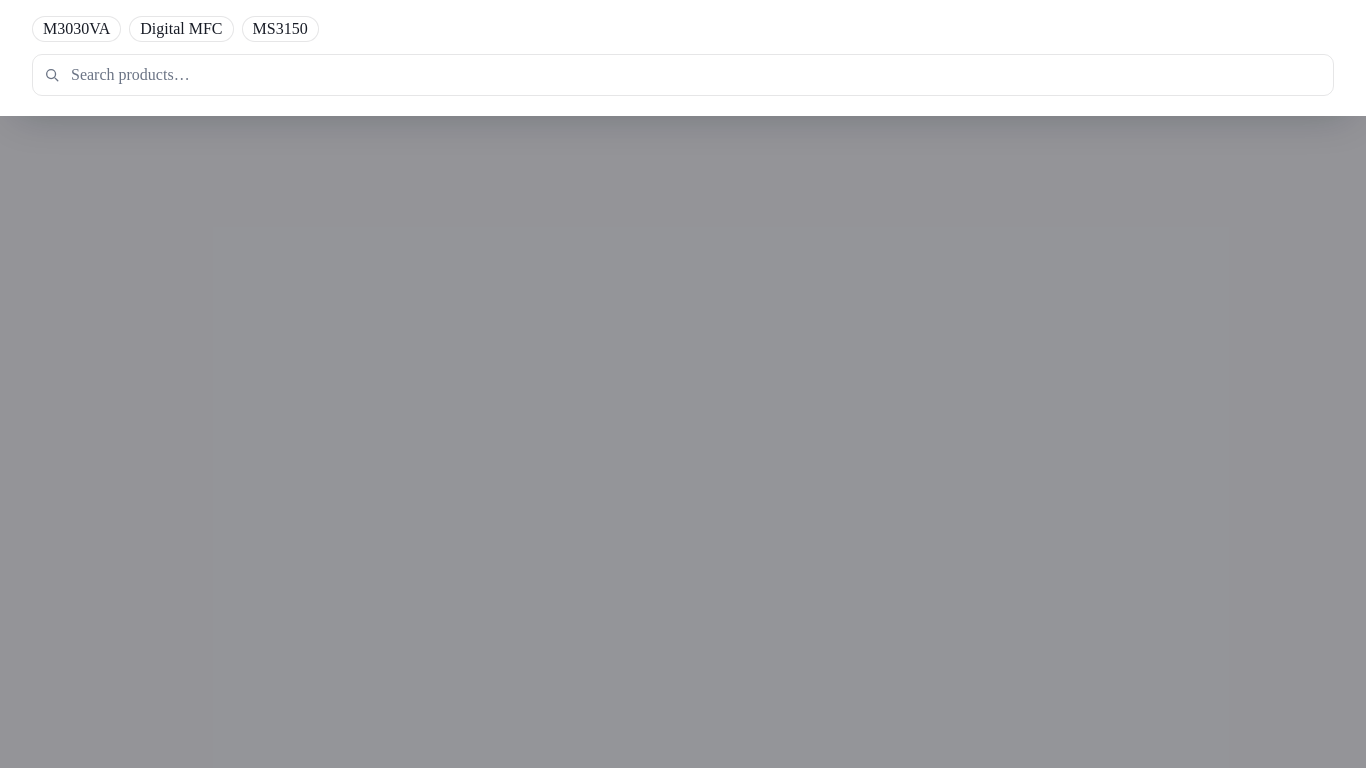
Test: SearchPanel › renders the empty state with the interpolated query when there are no matches
Type "nothingmatches" into the search field with placeholder "Search products…" at [683, 75], box [32,54,1334,96]
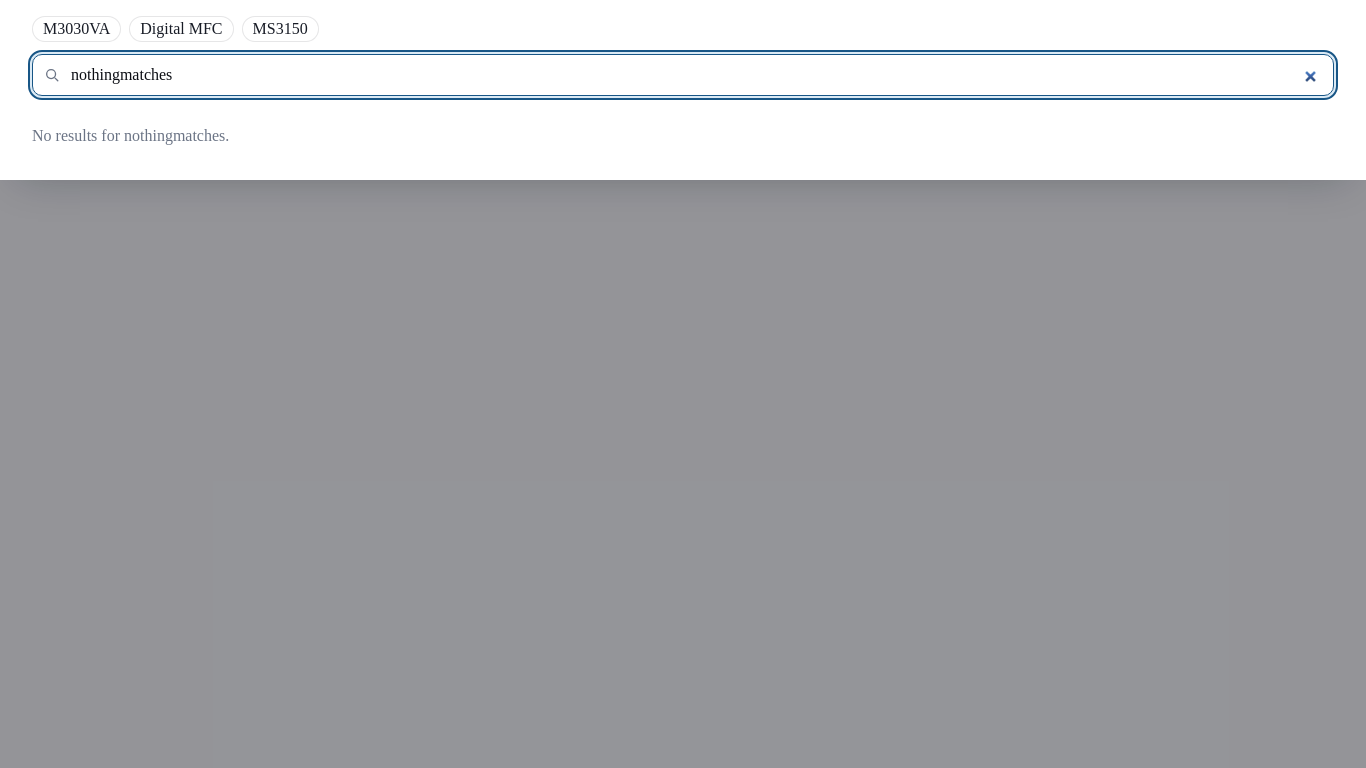
Now the text "No results for nothingmatches." is shown, box [32,127,229,144]
